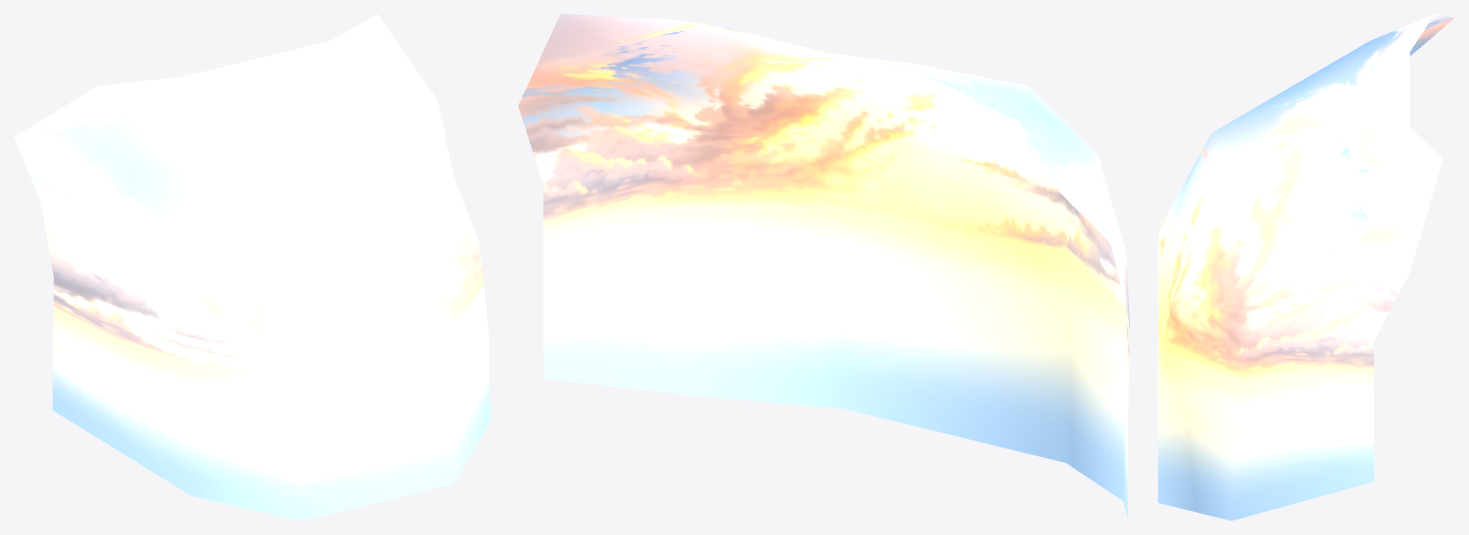
File: skybox.glb
3 renders of one model, left to right at view 1: azimuth 30°, elevation 25°; view 2: azimuth 150°, elevation 25°; view 3: azimuth 270°, elevation 25°, orthographic. The views are drawn at different scales.
Visible parts, largest first — view 1: Plane.005; view 2: Plane.005; view 3: Plane.005.
Boxes of the visible parts, x1,y1,x2,y2 form: Plane.005: [14, 14, 489, 520]; Plane.005: [518, 14, 1129, 519]; Plane.005: [1158, 14, 1454, 520].
Bounding box in the file's own units: 3 × 2.54 × 1.83.
